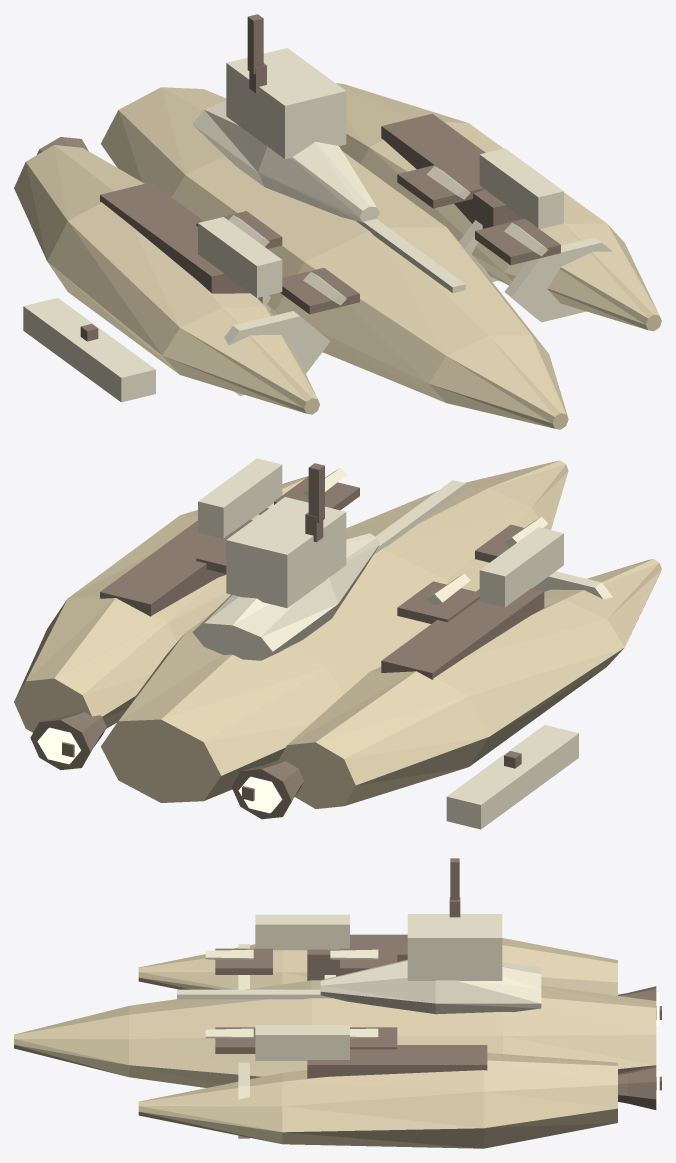
3 views of the same model, one above another, from view 1: azimuth 30°, elevation 25°; view 2: azimuth 150°, elevation 25°; view 3: azimuth 270°, elevation 25° (orthographic). The views are drawn at different scales.
Size of the model in its own units: 18.14 by 10.86 by 27.38.
